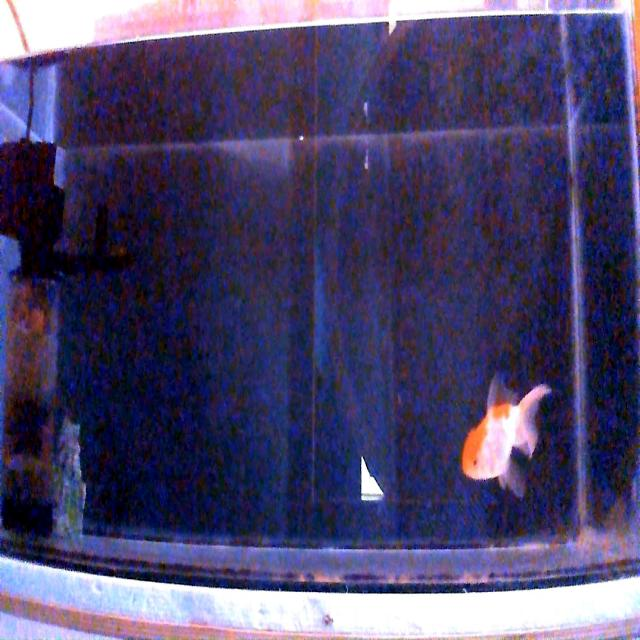fish: (460, 375, 552, 498)
